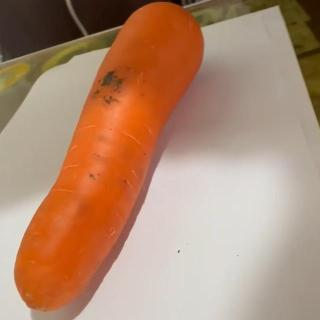carrot: (13, 0, 205, 312)
